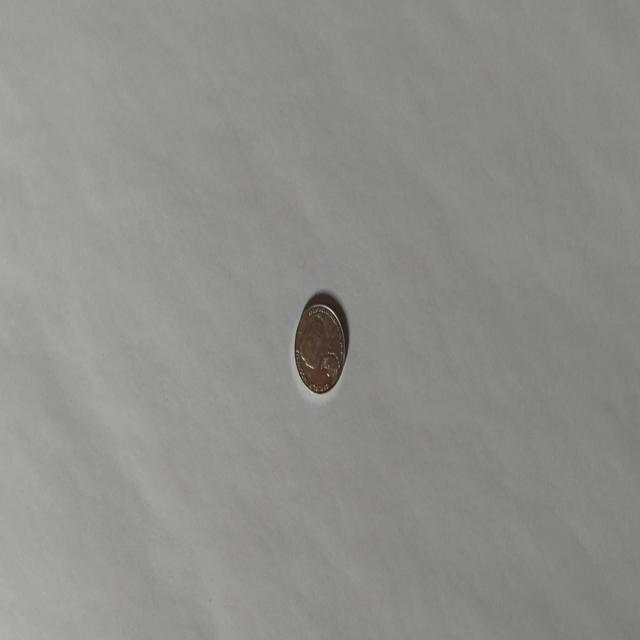seratus rupiah: (294, 300, 346, 394)
